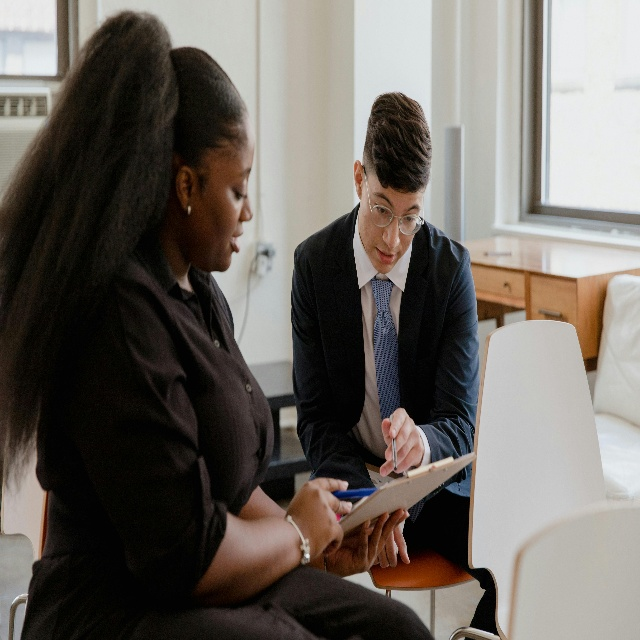Gafas: (362, 164, 424, 236)
Sin_guantes: (285, 477, 353, 564), (328, 508, 410, 577), (379, 406, 423, 477), (373, 526, 411, 569)
